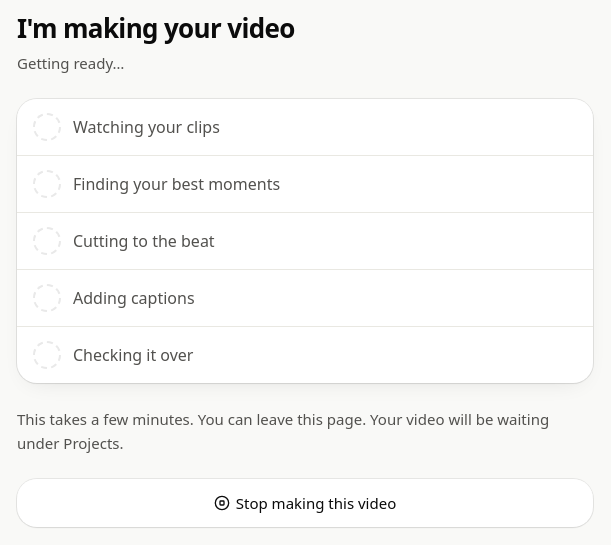
Test case: Stop stops the edit
The image size is (611, 545).
Click the button "Stop making this video" at (305, 502), box [17,478,593,526]
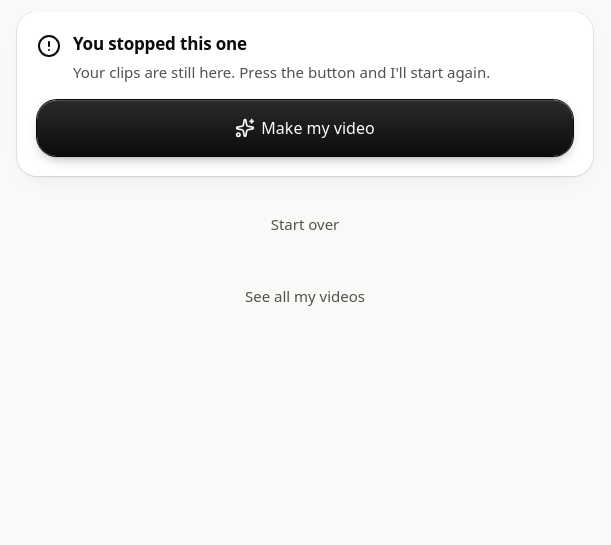
Expected: the heading "You stopped this one" is shown, [73,32,247,55]
